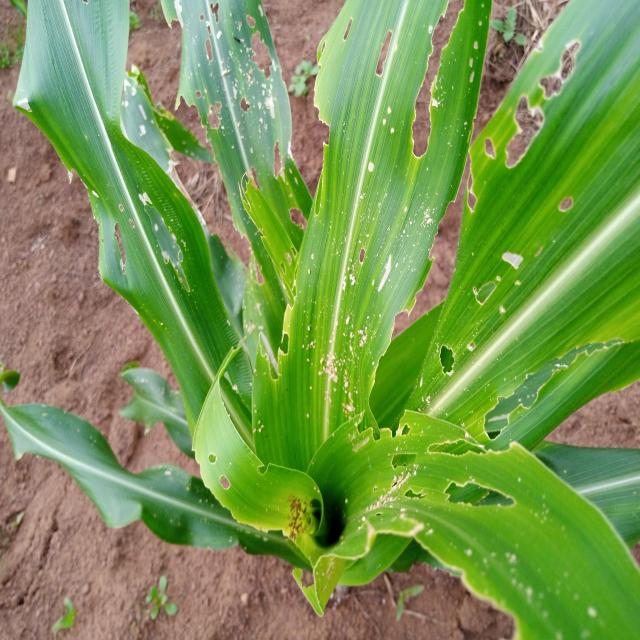fall-armyworm-egg: (488, 532, 614, 640), (335, 449, 432, 564), (303, 285, 382, 414), (354, 172, 440, 260), (214, 42, 282, 146), (271, 478, 330, 569)
fall-armyworm-larval-damage: (451, 44, 597, 205), (456, 325, 592, 459), (389, 0, 468, 171), (340, 298, 422, 454), (101, 158, 191, 300), (156, 4, 230, 170), (217, 0, 302, 115), (302, 86, 360, 216), (245, 302, 319, 399), (442, 247, 526, 309), (185, 442, 254, 516), (437, 461, 521, 519), (348, 26, 413, 90), (310, 12, 378, 71), (227, 161, 278, 228), (269, 188, 319, 247), (264, 126, 291, 186), (438, 336, 476, 377)
